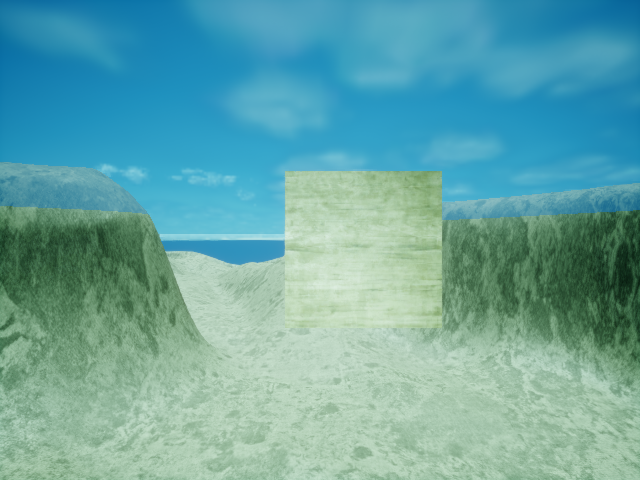Cube: (259, 147, 451, 345)
